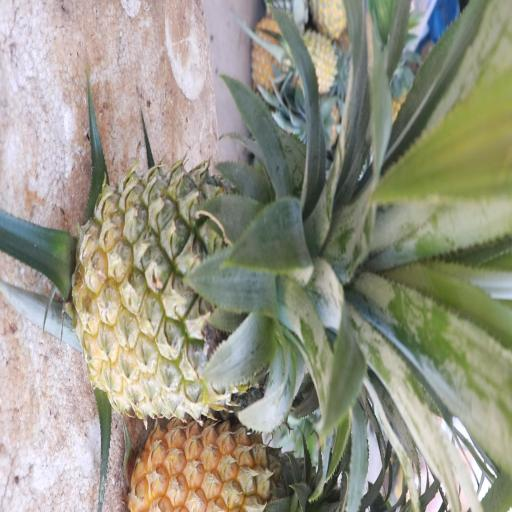------------------------------: (77, 169, 339, 416)
Pineapple - v8 v1: (136, 412, 318, 512)
